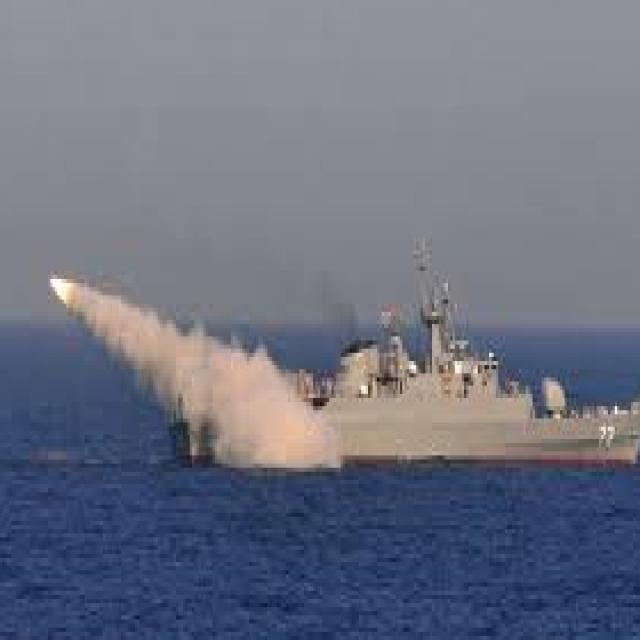navalvessels: (148, 250, 640, 475)
